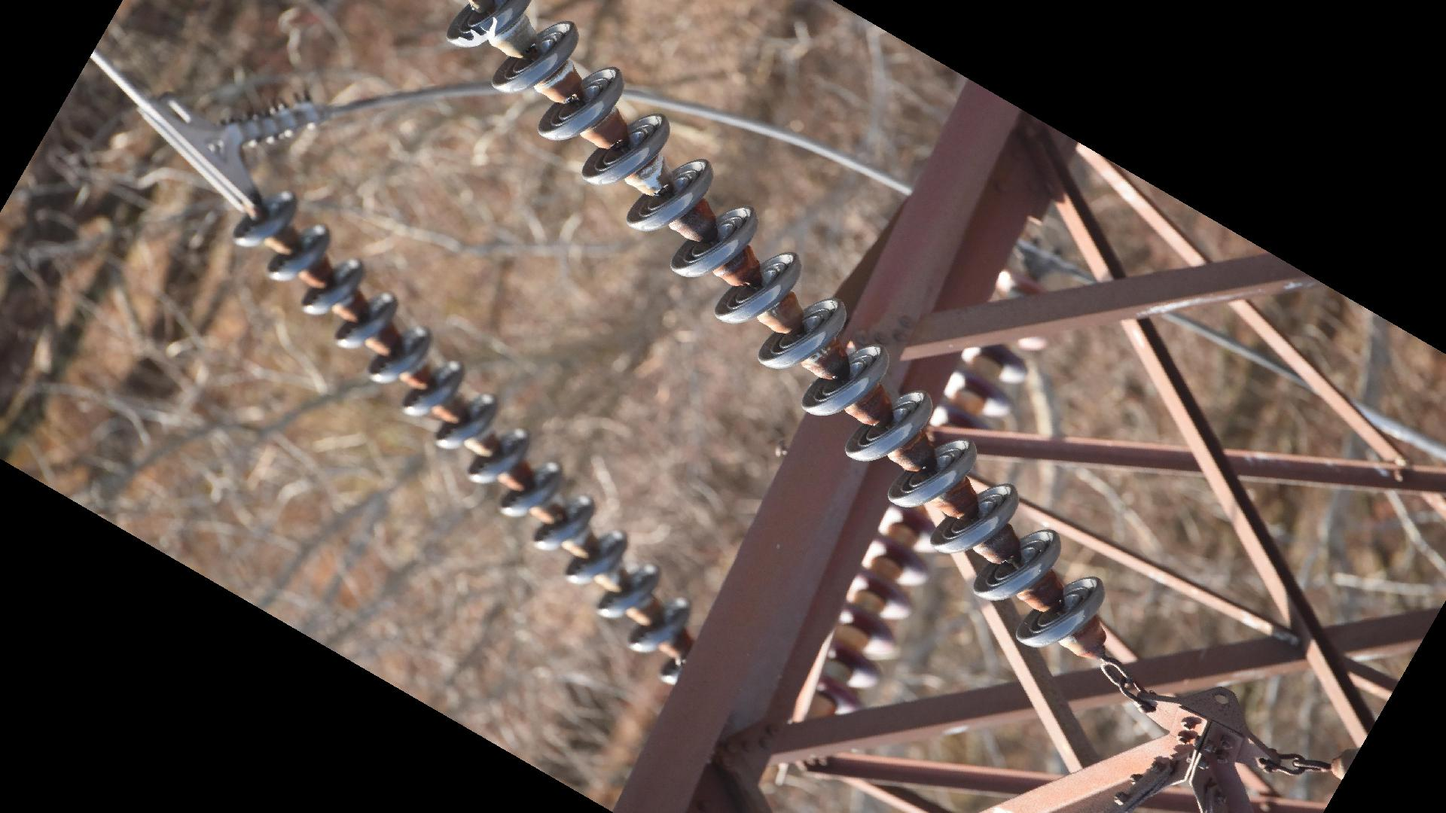insulator: (435, 1, 1114, 656), (228, 184, 703, 693), (810, 507, 941, 717), (929, 338, 1030, 437)
insulator_breakage: (447, 14, 501, 50)
